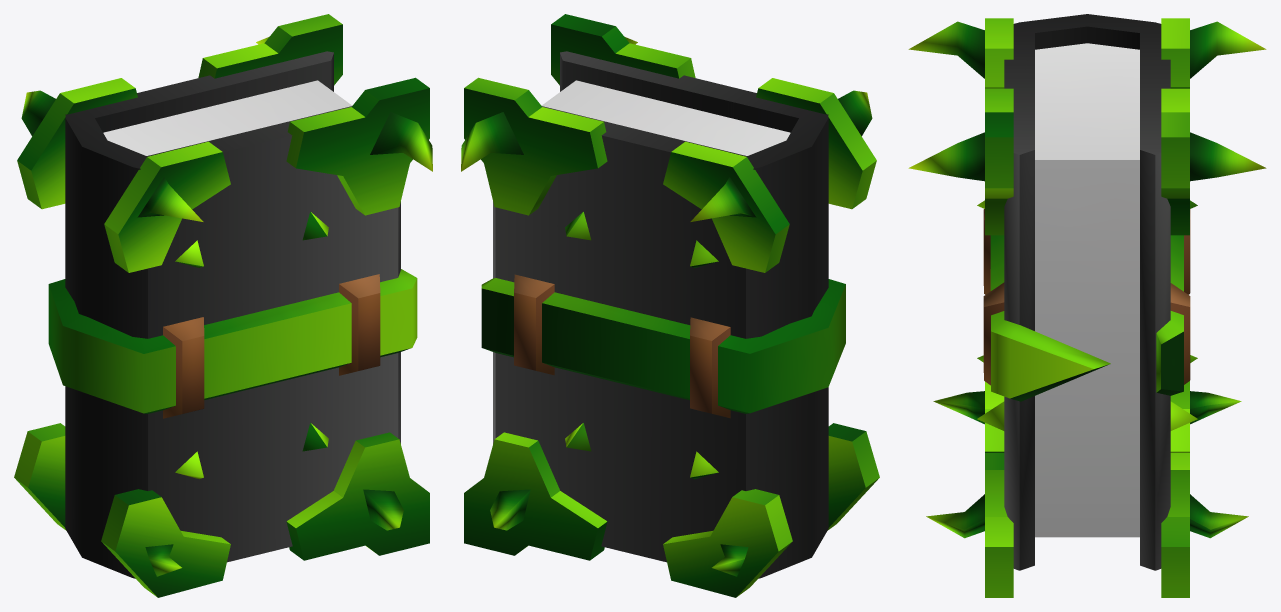
File: SpellBook1h_21.fbx
3 renders of one model, left to right at view 1: azimuth 30°, elevation 25°; view 2: azimuth 150°, elevation 25°; view 3: azimuth 270°, elevation 25°, orthographic.
Parts seen in each view (by area): view 1: SpellBook1h_21; view 2: SpellBook1h_21; view 3: SpellBook1h_21.
Part boxes in pixels (left/top/right/bottom): SpellBook1h_21: left=14, top=14, right=432, bottom=597; SpellBook1h_21: left=461, top=14, right=879, bottom=597; SpellBook1h_21: left=908, top=14, right=1266, bottom=597.
Bounding box in the file's own units: 34.38 × 47.27 × 33.33.
